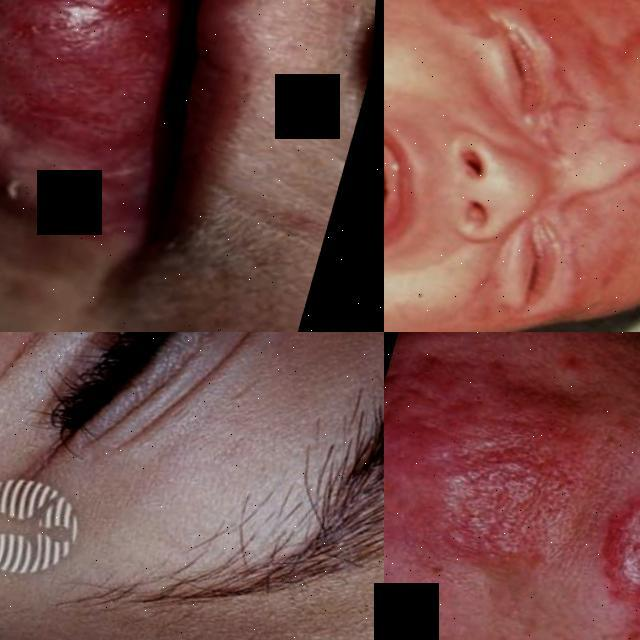lupus-detected: (0, 0, 350, 319), (384, 332, 533, 597), (513, 0, 640, 289), (579, 332, 640, 640), (570, 448, 640, 605)
